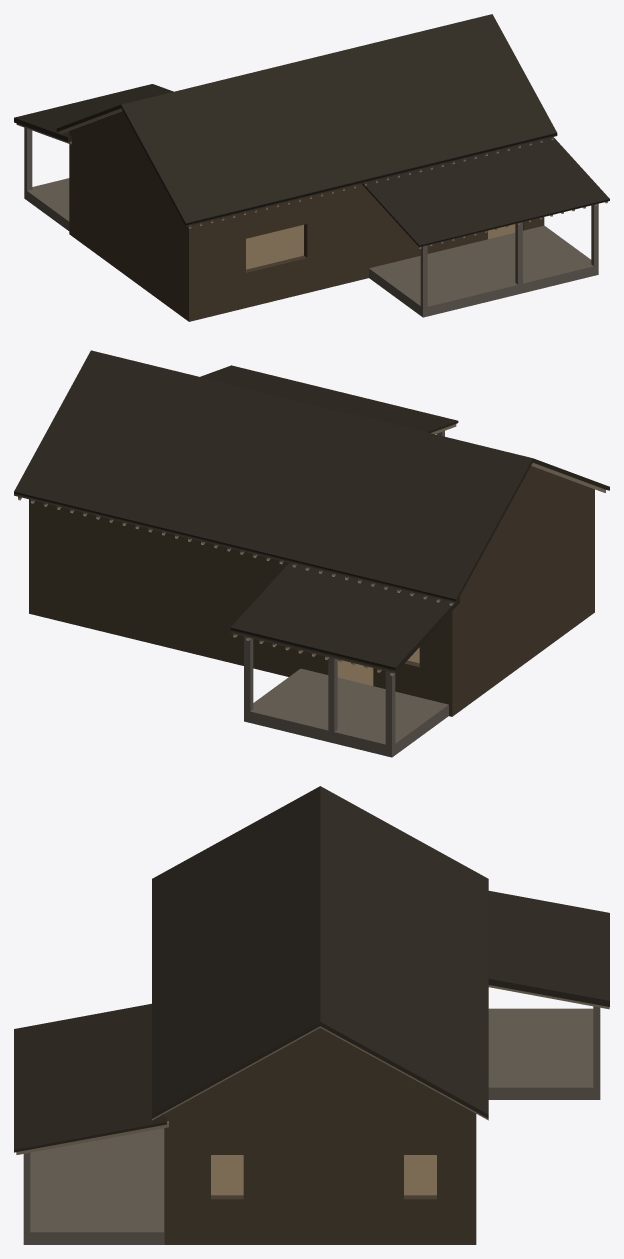
Rendered from Lodge_UVTest.fbx.
The picture shows the model from 3 angles, top to bottom: view 1: azimuth 30°, elevation 25°; view 2: azimuth 150°, elevation 25°; view 3: azimuth 270°, elevation 25°; orthographic projection. The views are drawn at different scales.
Parts seen in each view (by area): view 1: Lodge_Deck3; view 2: Lodge_Deck3; view 3: Lodge_Deck3.
Part boxes in pixels (<box>): Lodge_Deck3: <box>14,14,609,321</box>; Lodge_Deck3: <box>14,350,609,757</box>; Lodge_Deck3: <box>14,786,609,1244</box>.
Size of the model in its own units: 16.9 by 7.63 by 18.05.
